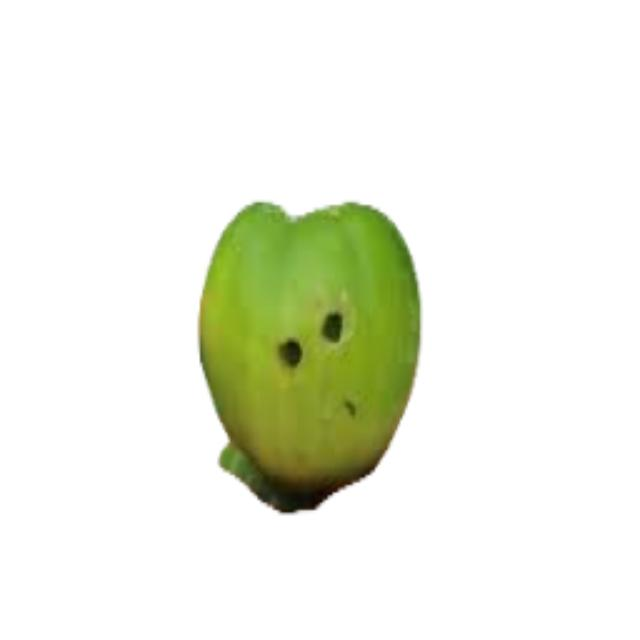defect: (190, 192, 425, 518)
